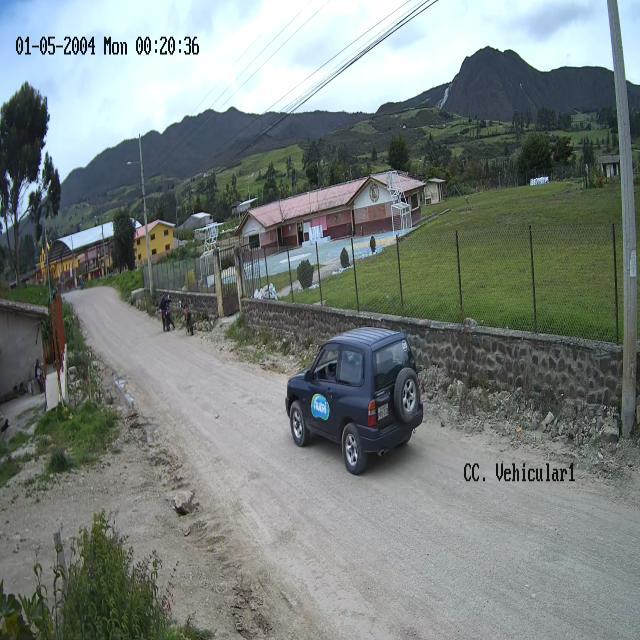SUV: (285, 328, 424, 477)
